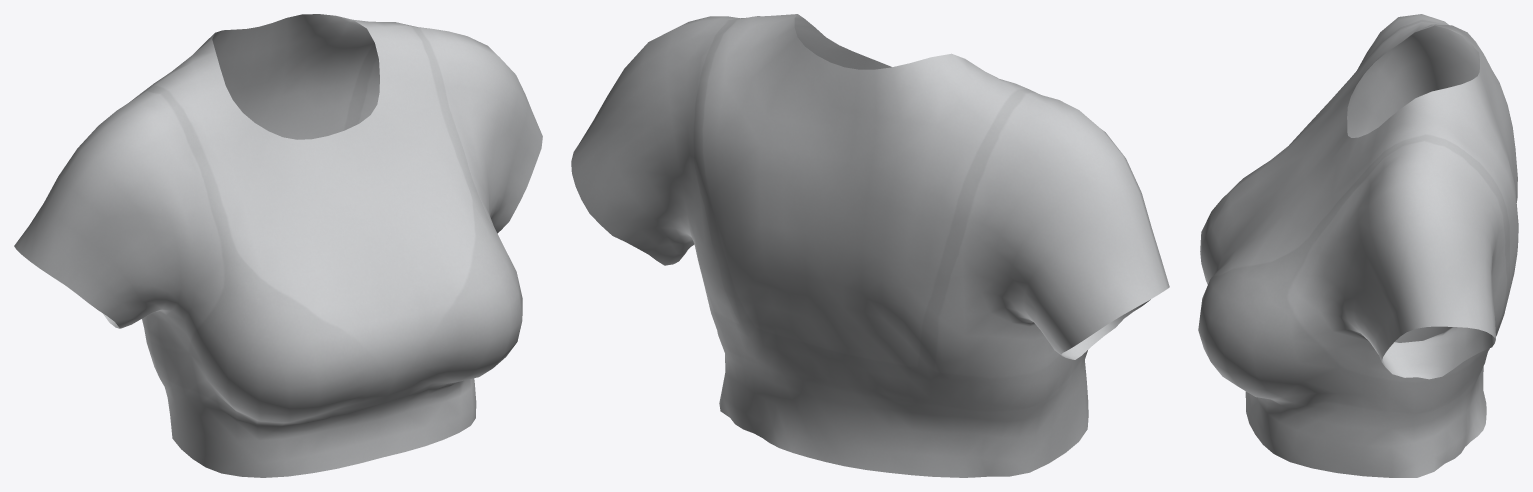
Rendered from female_tshirt.glb.
3 renders of one model, left to right at view 1: azimuth 30°, elevation 25°; view 2: azimuth 150°, elevation 25°; view 3: azimuth 270°, elevation 25°, orthographic. The views are drawn at different scales.
Parts seen in each view (by area): view 1: Plane.002; view 2: Plane.002; view 3: Plane.002.
Boxes of the visible parts, bbox=[...] form: Plane.002: bbox=[14, 14, 542, 477]; Plane.002: bbox=[571, 14, 1169, 477]; Plane.002: bbox=[1198, 14, 1518, 477].
Size of the model in its own units: 9.56 by 6.57 by 5.36.
1 material, 1 textured.
